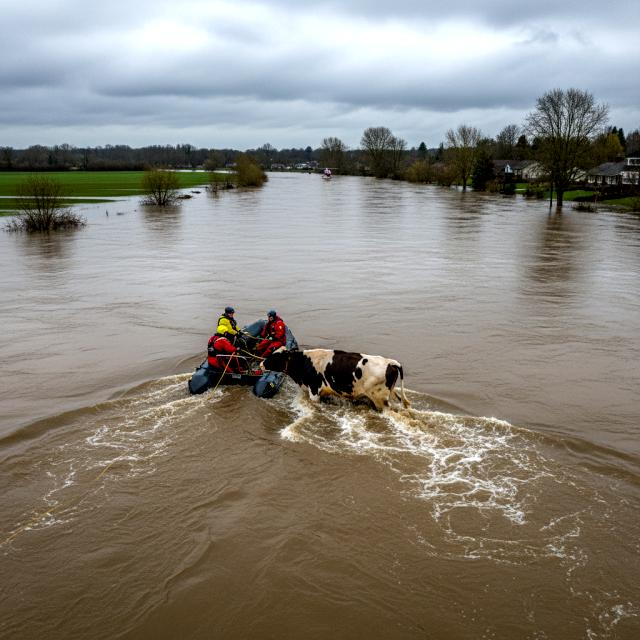cow: (254, 345, 424, 417)
rescuer: (204, 317, 242, 379), (252, 307, 289, 359), (216, 304, 246, 346)
